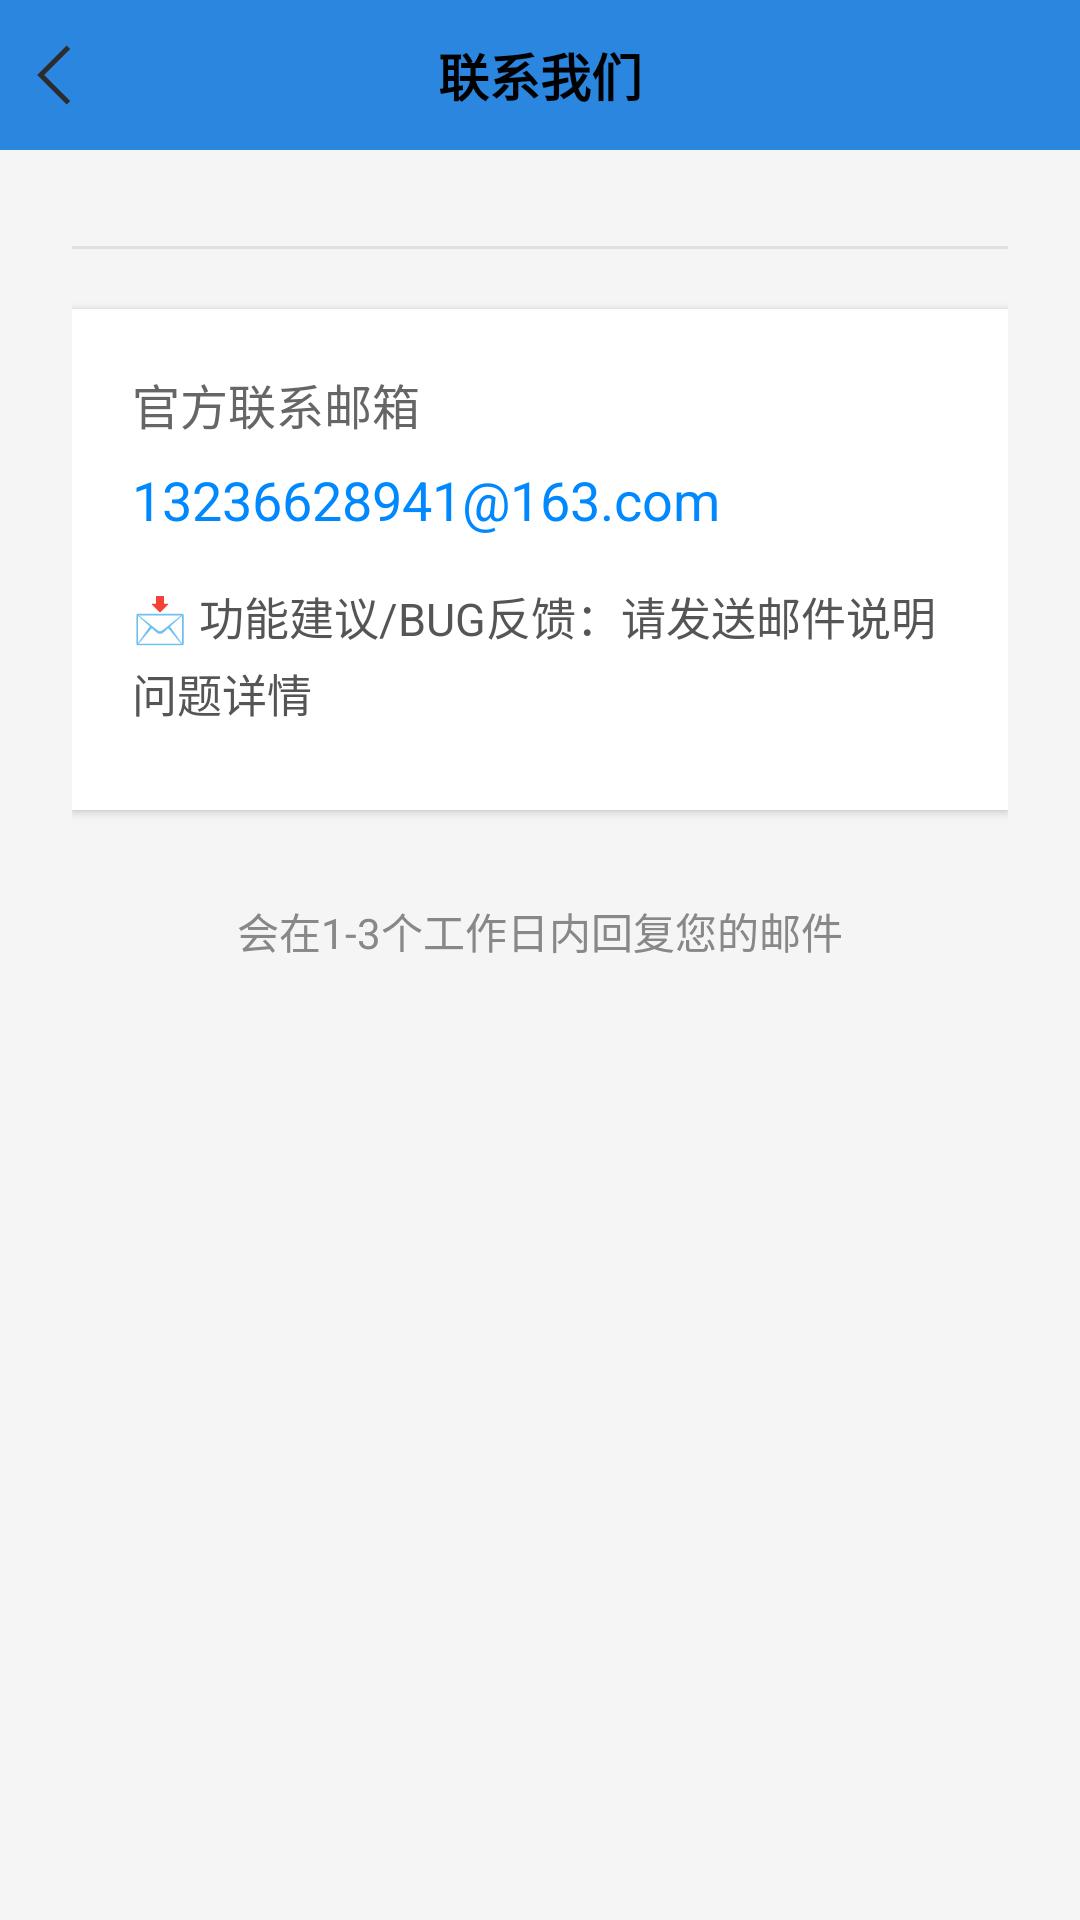

Icons on this 1080×1920 Android screen, each with its box as (x1, y1, x2, y2):
back: (37, 45, 70, 105)
